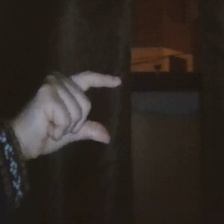G: (19, 63, 133, 166)
